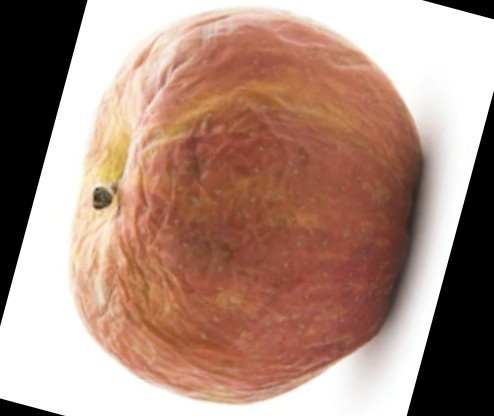rotten_apple: (71, 7, 421, 404)
